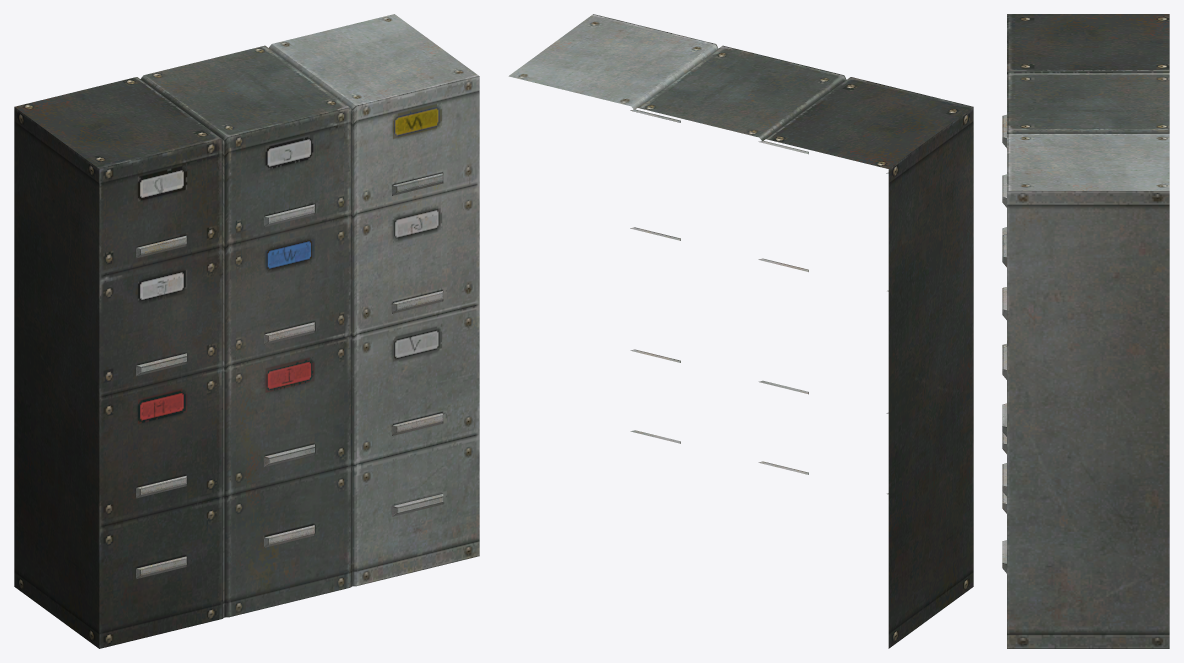
The model's file is Prop_Bgx01.glb.
3 renders of one model, left to right at view 1: azimuth 30°, elevation 25°; view 2: azimuth 150°, elevation 25°; view 3: azimuth 270°, elevation 25°, orthographic. The views are drawn at different scales.
Visible parts, largest first — view 1: xiutz_bgx_01; view 2: xiutz_bgx_01; view 3: xiutz_bgx_01.
Boxes of the visible parts, x1,y1,x2,y2 form: xiutz_bgx_01: [14, 14, 479, 648]; xiutz_bgx_01: [508, 14, 973, 648]; xiutz_bgx_01: [1002, 14, 1169, 648].
Size of the model in its own units: 2.84 by 3.42 by 1.13.
1 material, 1 textured.
